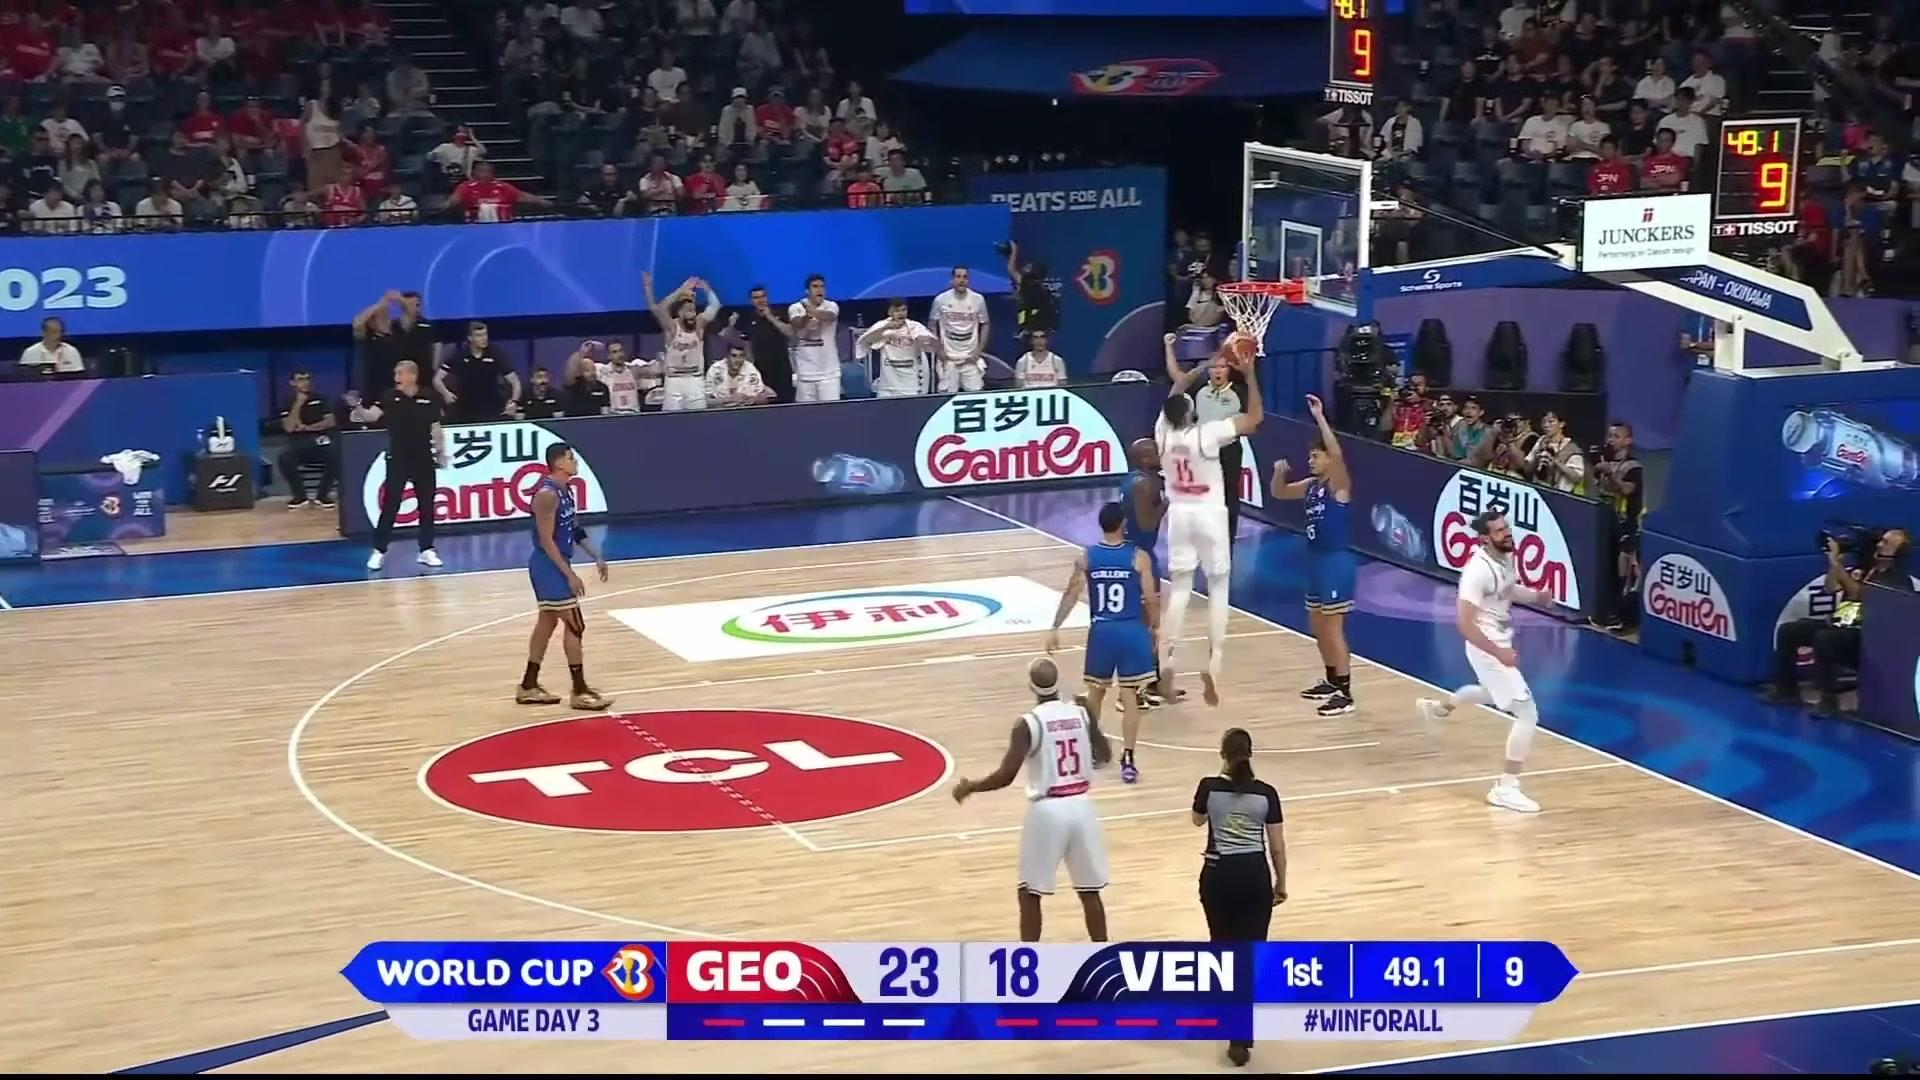no_foul: (1116, 339, 1367, 699)
